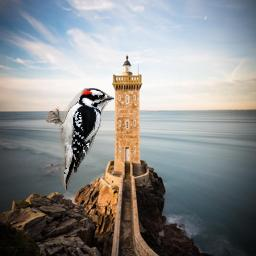Woodpecker: (46, 88, 114, 190)
